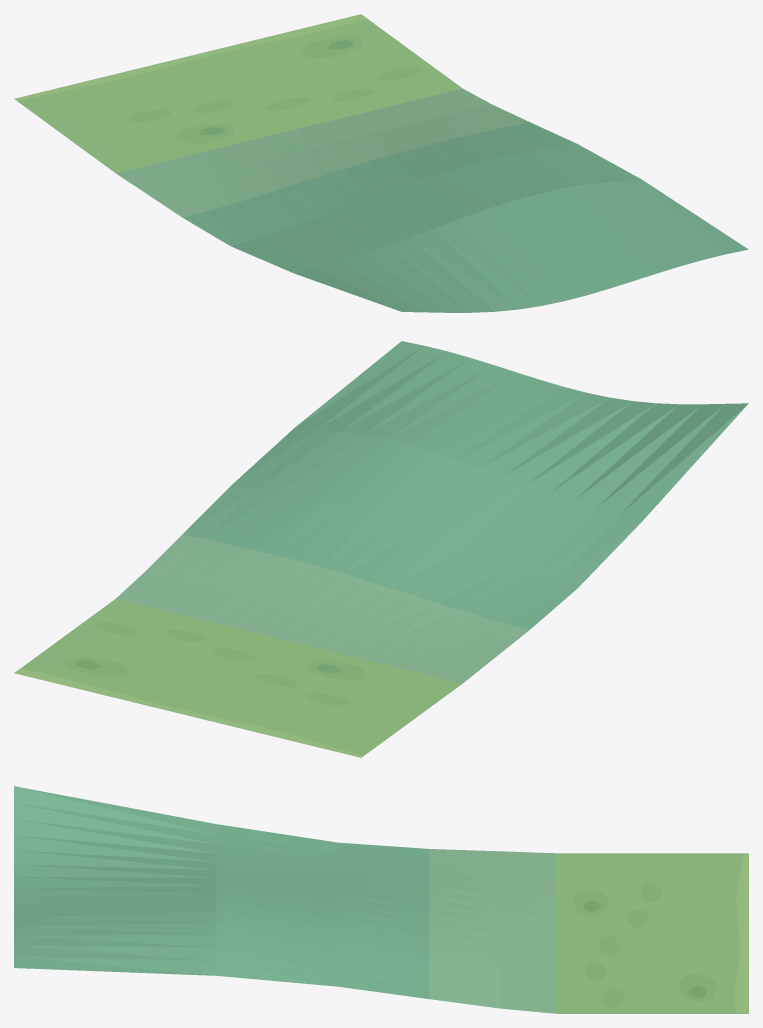
File: Prairie_5.fbx
3 views of the same model, one above another, from view 1: azimuth 30°, elevation 25°; view 2: azimuth 150°, elevation 25°; view 3: azimuth 270°, elevation 25° (orthographic). The views are drawn at different scales.
Visible parts, largest first — view 1: Prairie_5; view 2: Prairie_5; view 3: Prairie_5.
Boxes of the visible parts, x1,y1,x2,y2 form: Prairie_5: [14, 14, 748, 312]; Prairie_5: [14, 341, 748, 757]; Prairie_5: [14, 786, 748, 1013].
Size of the model in its own units: 7500 by 1461 by 14504.
Materials: 1 (1 with a texture image).
